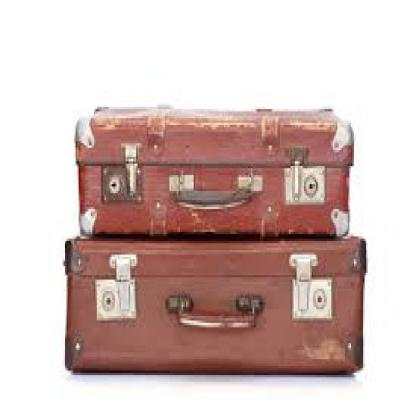maleta: (44, 227, 387, 391), (54, 98, 367, 243)
